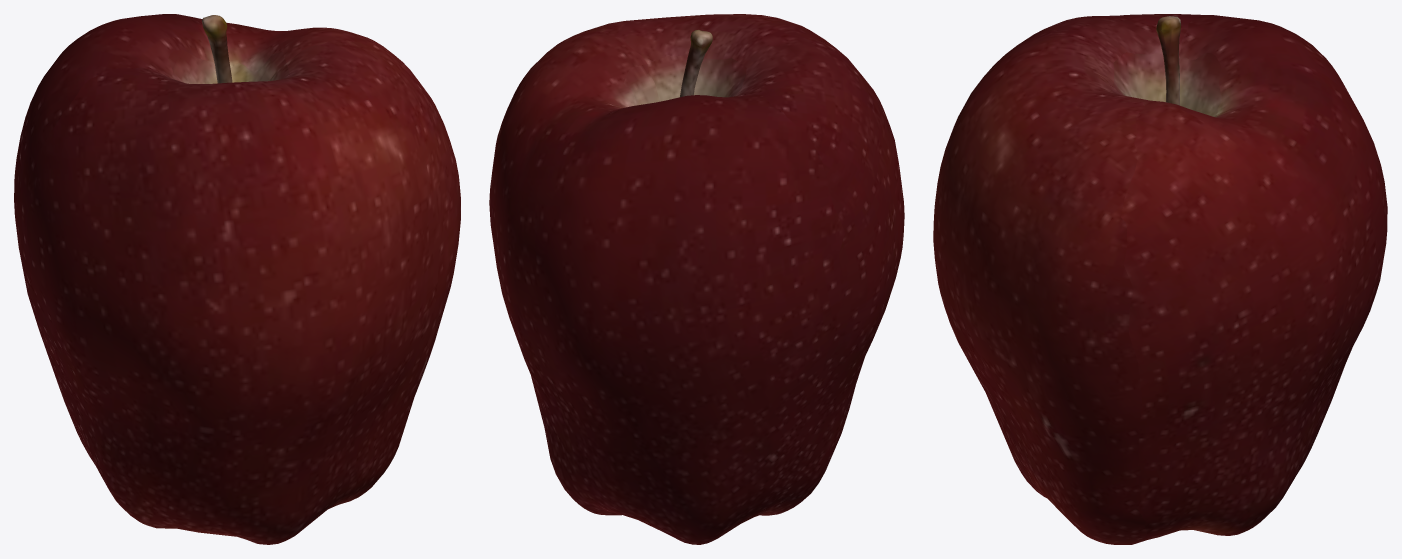
Rendered from food_produce_apple_reddelicous_a.glb.
3 renders of one model, left to right at view 1: azimuth 30°, elevation 25°; view 2: azimuth 150°, elevation 25°; view 3: azimuth 270°, elevation 25°, orthographic. The views are drawn at different scales.
Parts seen in each view (by area): view 1: part0; view 2: part0; view 3: part0.
Part boxes in pixels (bbox=[...]): part0: bbox=[14, 14, 460, 544]; part0: bbox=[489, 14, 904, 544]; part0: bbox=[933, 14, 1387, 544].
Size of the model in its own units: 0.0776 by 0.0954 by 0.0809.
Materials: 1 (1 with a texture image).
